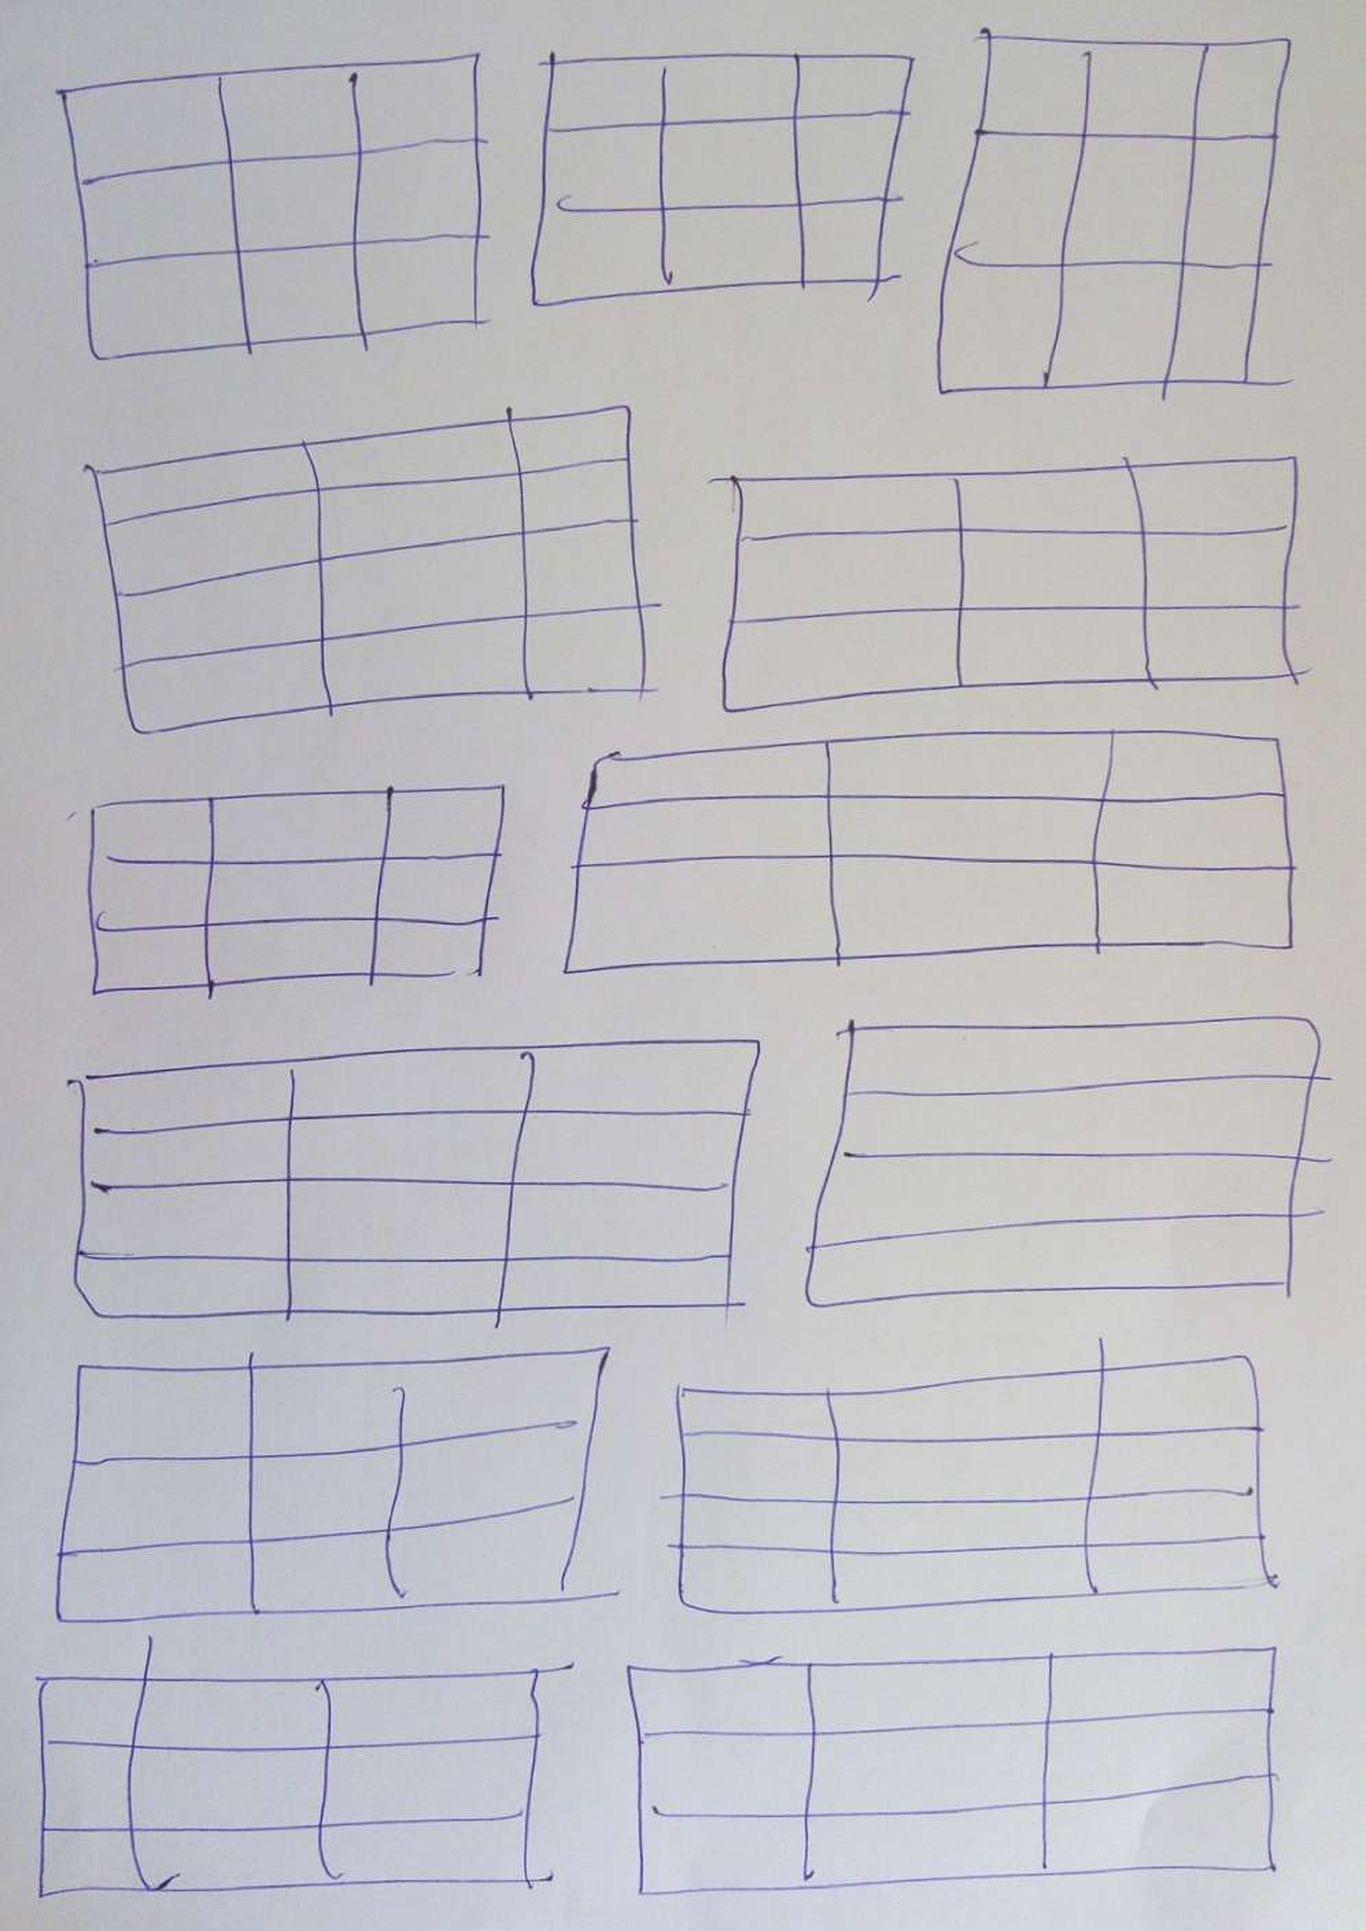Table: (67, 1039, 761, 1340), (83, 405, 661, 735), (563, 730, 1297, 974), (659, 1338, 1280, 1615), (625, 1646, 1280, 1896), (701, 455, 1317, 713), (55, 1345, 621, 1623), (806, 1016, 1339, 1309), (35, 1635, 575, 1898), (55, 53, 497, 361), (937, 28, 1295, 401), (531, 52, 917, 308), (87, 784, 506, 1000)
